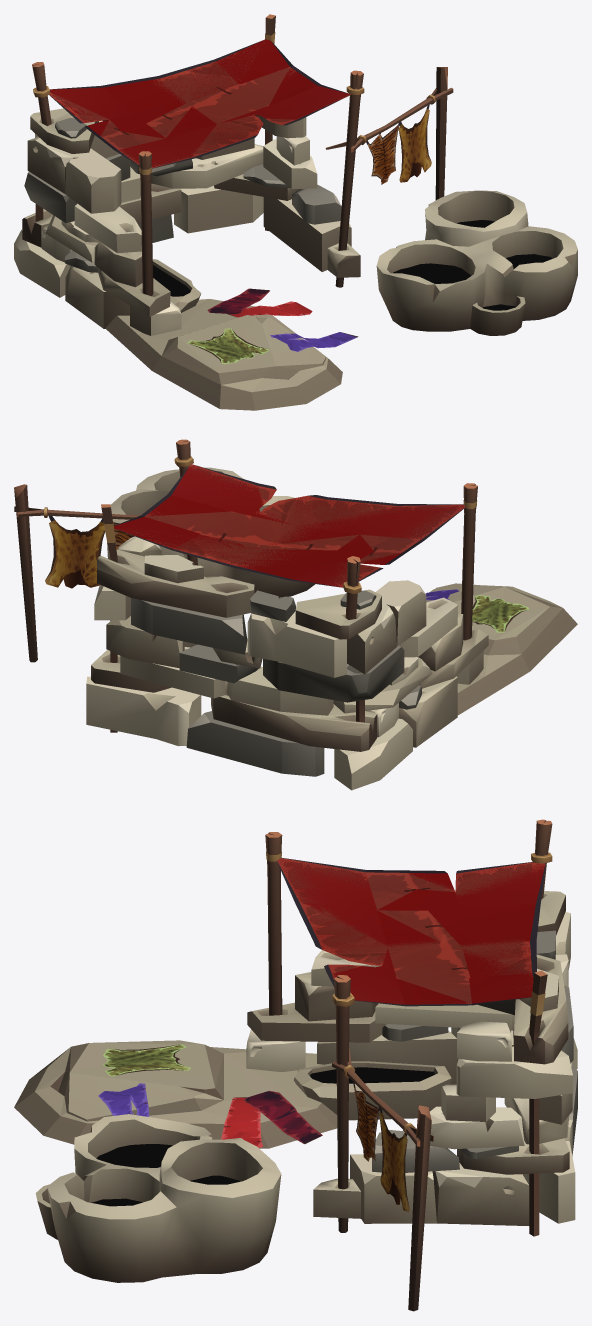
Rendered from Tannery_2A.fbx.
The picture shows the model from 3 angles, top to bottom: view 1: azimuth 30°, elevation 25°; view 2: azimuth 150°, elevation 25°; view 3: azimuth 270°, elevation 25°; orthographic projection. The views are drawn at different scales.
Visible parts, largest first — view 1: Tannery_2A; view 2: Tannery_2A; view 3: Tannery_2A.
Boxes of the visible parts, x1,y1,x2,y2 form: Tannery_2A: (14,14,577,410); Tannery_2A: (14,439,577,790); Tannery_2A: (14,819,577,1311).
Bounding box in the file's own units: 776 × 416 × 775.
